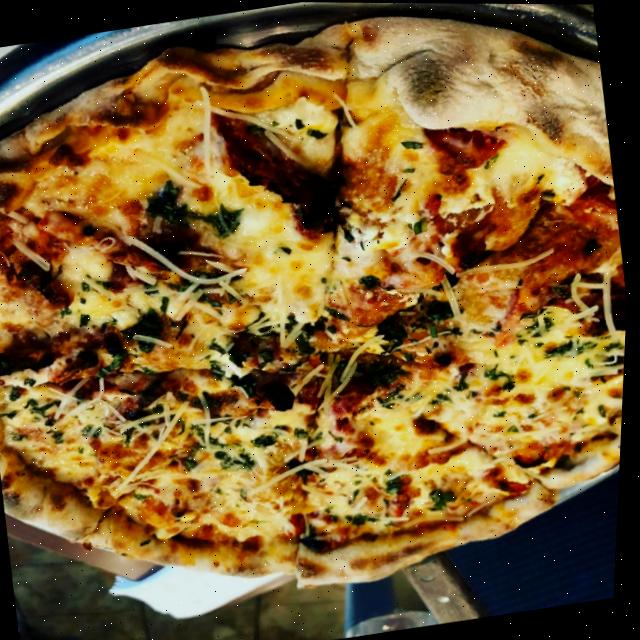basil: (143, 177, 193, 232), (190, 201, 249, 242), (545, 335, 600, 360), (97, 350, 133, 378), (431, 485, 463, 510), (388, 475, 409, 494), (212, 357, 230, 379), (254, 433, 280, 448), (296, 425, 312, 438)
pizza: (0, 0, 640, 635)
